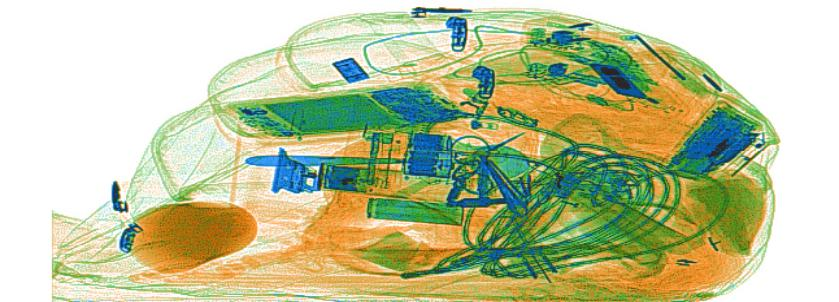battery: (363, 195, 465, 226), (407, 130, 453, 151)
